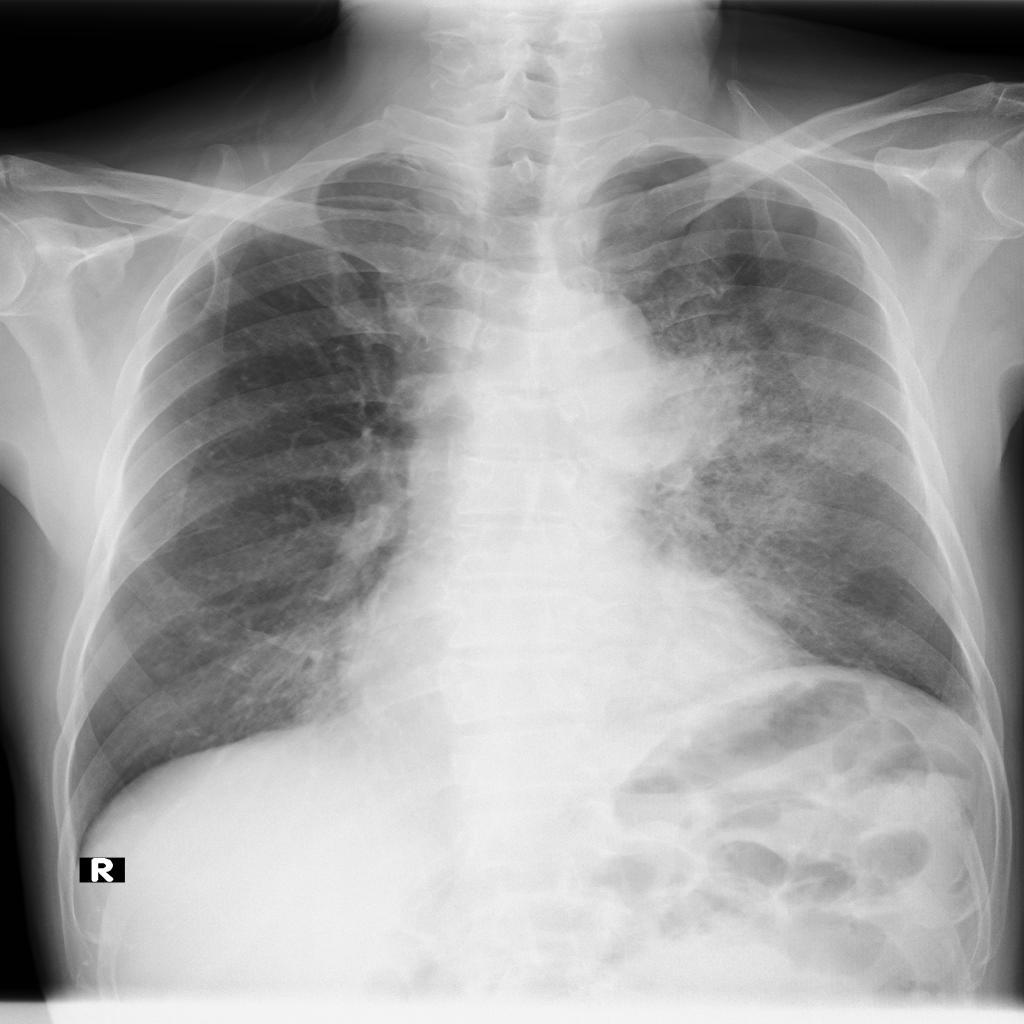Nodule: (615, 360, 754, 488), (150, 660, 174, 682)
